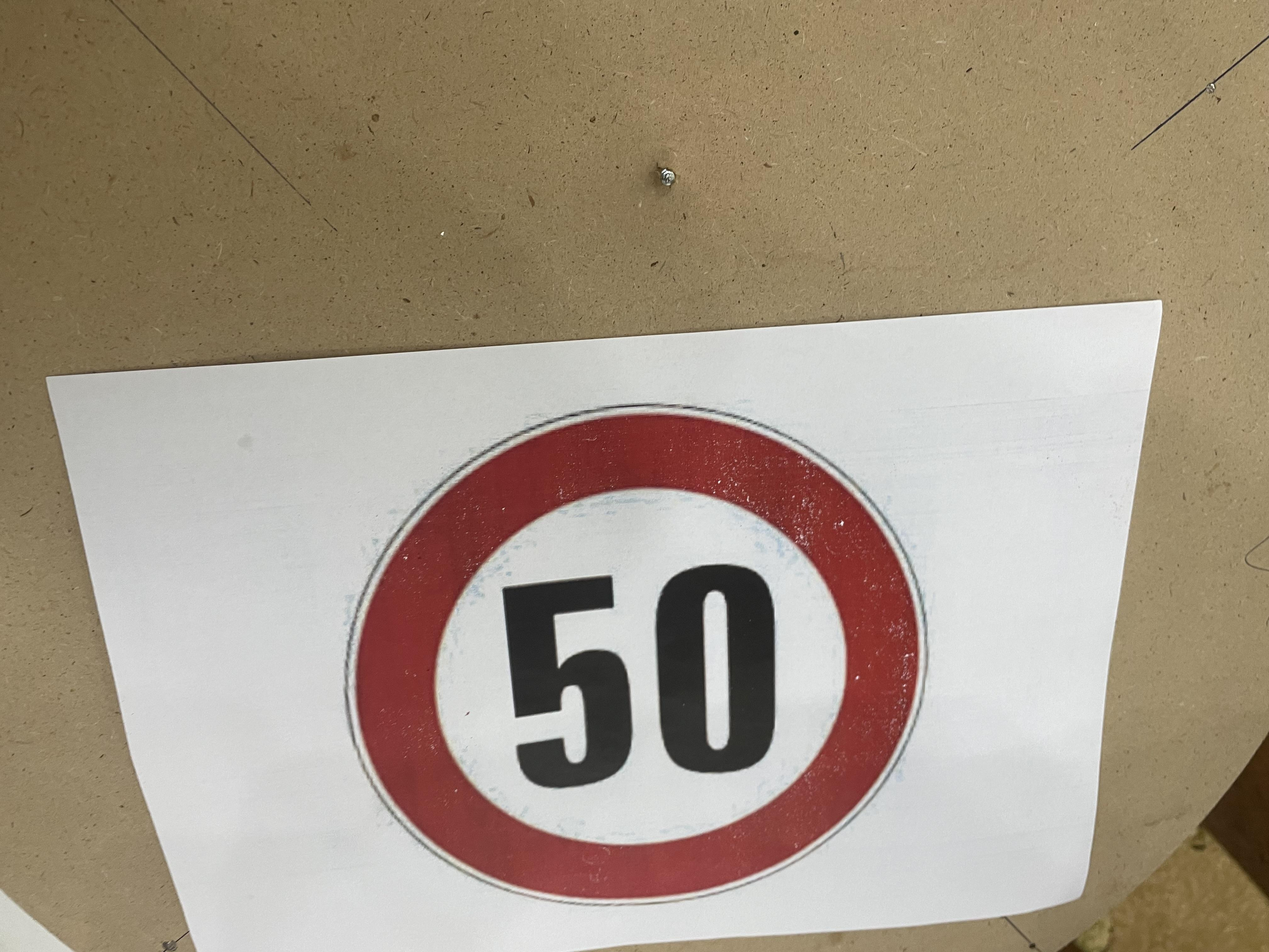50-Speed: (337, 38, 946, 565)
